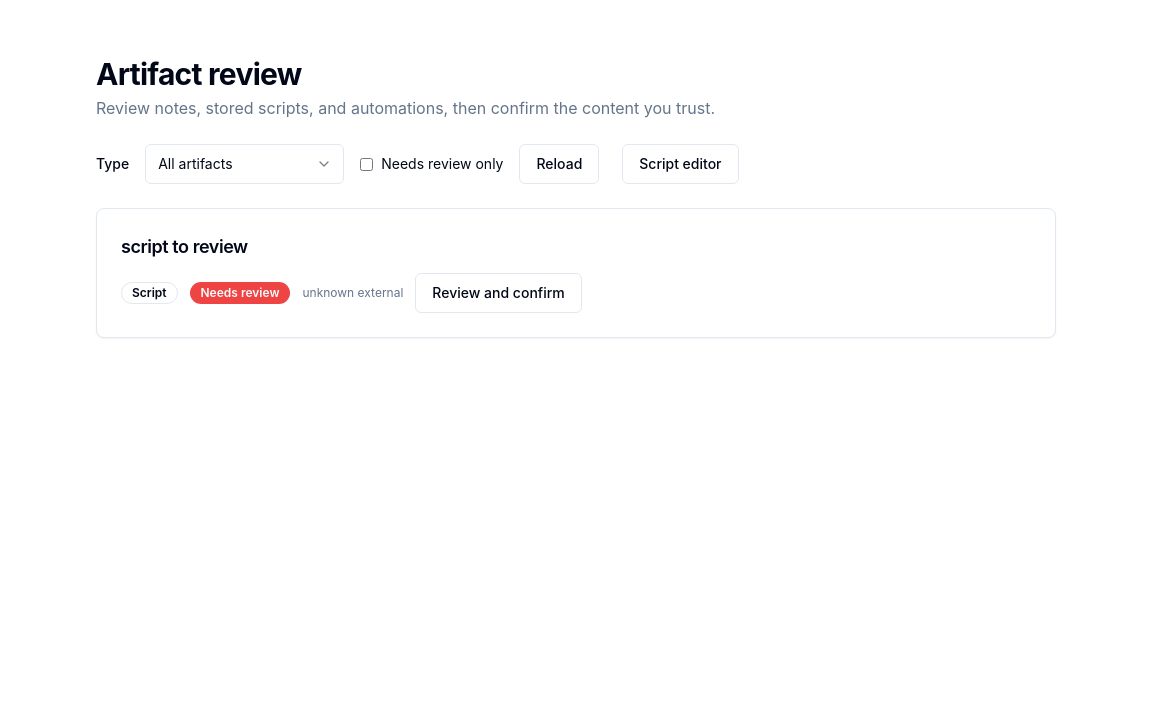
Test: Artifact review › allows a new confirmation when a previous human decision did not cure taint
Click the button "Review and confirm" at (498,293), box [415, 273, 582, 313]
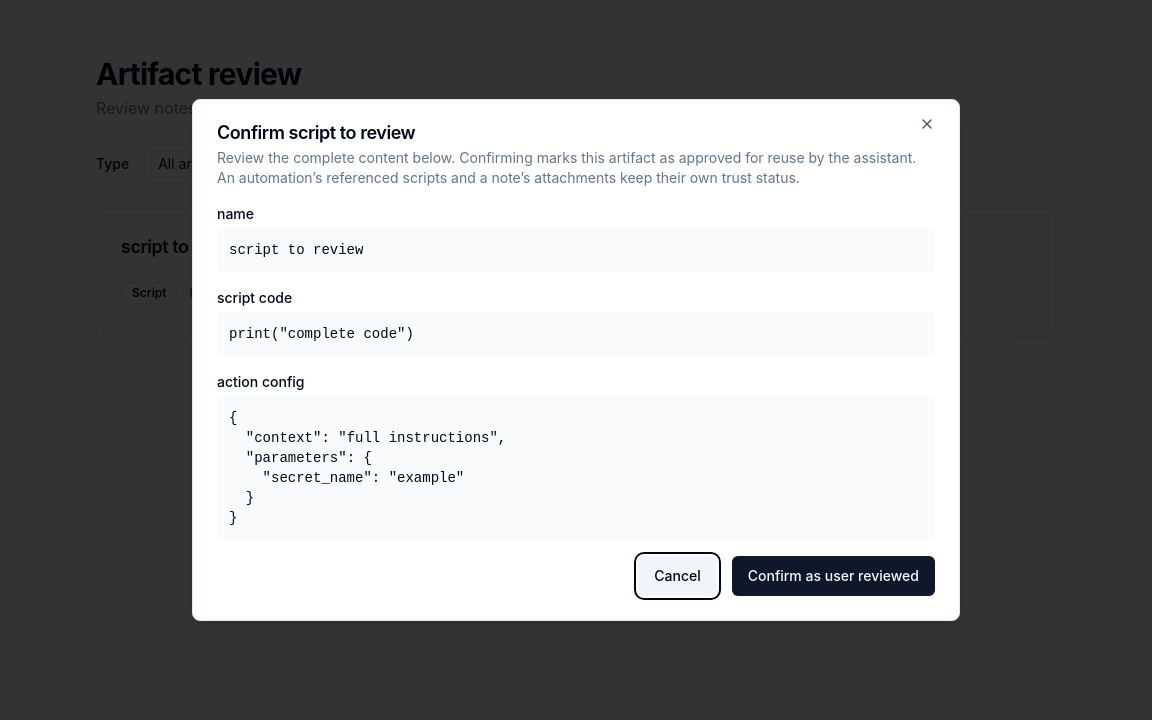
expect the text "Needs review" is shown: met, box [190, 282, 290, 304]
Click the button "Confirm as user reviewed" at (833,576), box [732, 556, 935, 596]
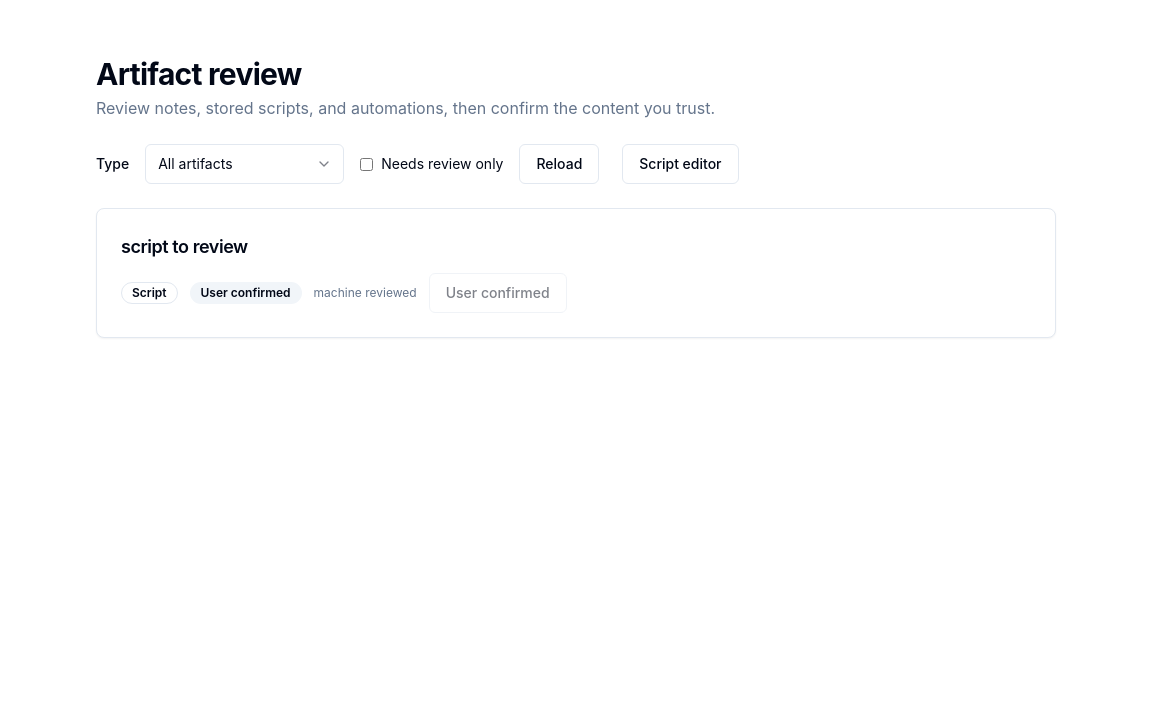
expect the dialog is gone: met
expect the button "User confirmed" is disabled: met, box [429, 273, 567, 313]
